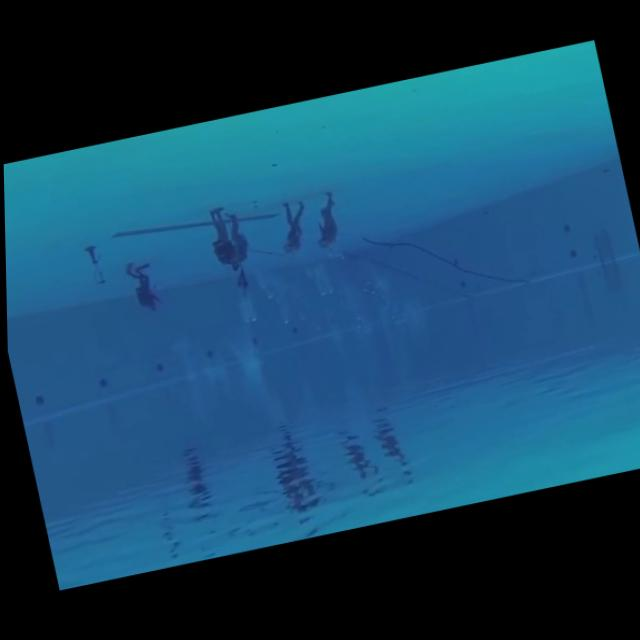human: (302, 187, 352, 261), (119, 254, 167, 323), (269, 196, 318, 263), (200, 202, 244, 276), (217, 207, 256, 279)
